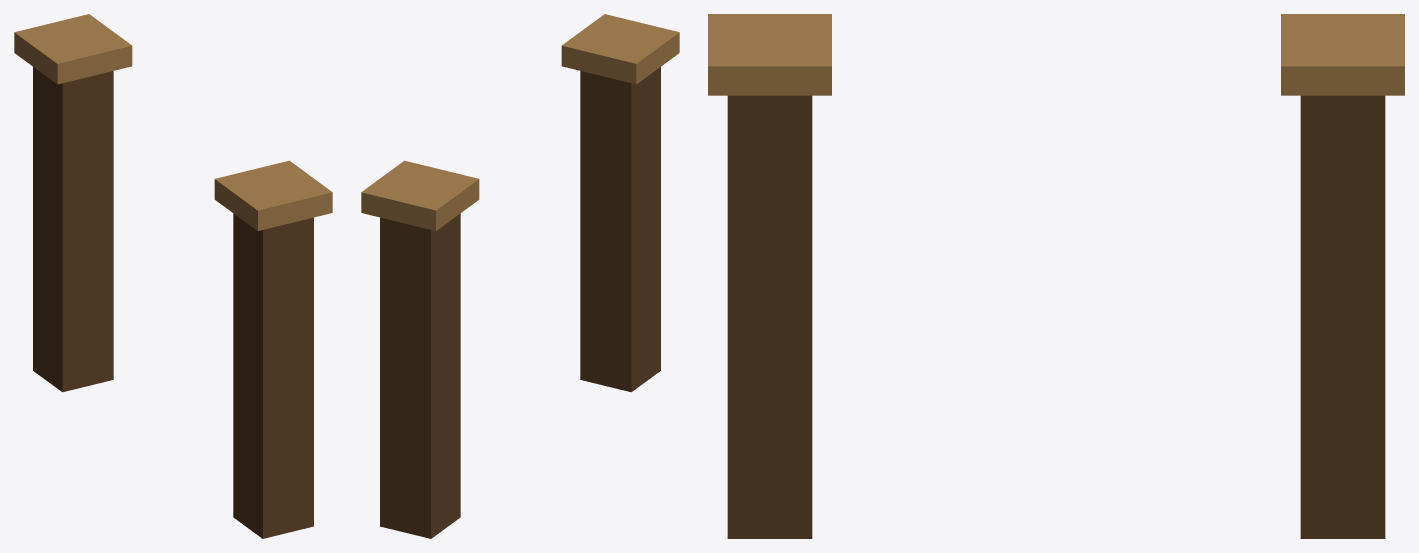
Rendered from bridge_end.obj.
The picture shows the model from 3 angles, left to right: view 1: azimuth 30°, elevation 25°; view 2: azimuth 150°, elevation 25°; view 3: azimuth 270°, elevation 25°; orthographic projection. The views are drawn at different scales.
Visible parts, largest first — view 1: part_2, part_0, part_1, part_3; view 2: part_0, part_2, part_1, part_3; view 3: part_0, part_2, part_1, part_3.
Boxes of the visible parts, x1,y1,x2,y2 form: part_2: (233,213,313,538); part_0: (33,67,113,392); part_1: (14,14,132,84); part_3: (214,160,332,230); part_0: (380,213,460,538); part_2: (580,67,660,392); part_1: (361,160,479,230); part_3: (561,14,679,84); part_0: (1300,95,1385,538); part_2: (727,95,812,538); part_1: (1281,14,1404,95); part_3: (708,14,831,95).
Bounding box in the file's own units: 0.19 × 0.815 × 1.07.
